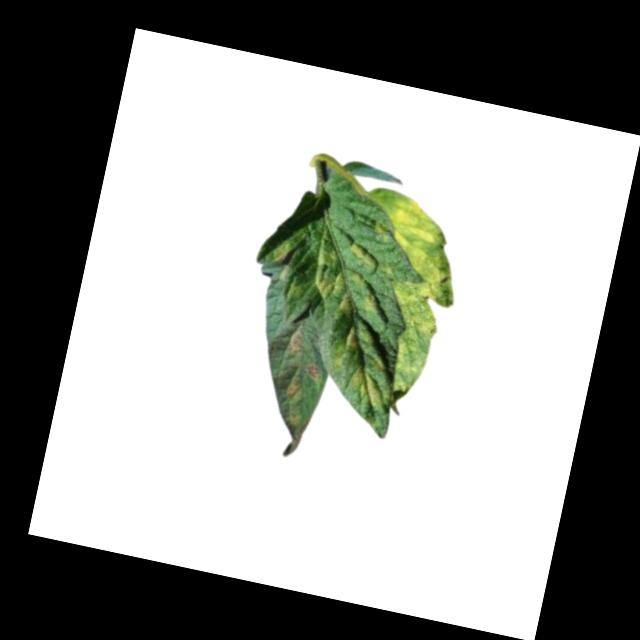Leaf_Mold: (288, 236, 413, 415), (260, 330, 329, 457), (378, 193, 460, 298), (375, 289, 444, 393)
